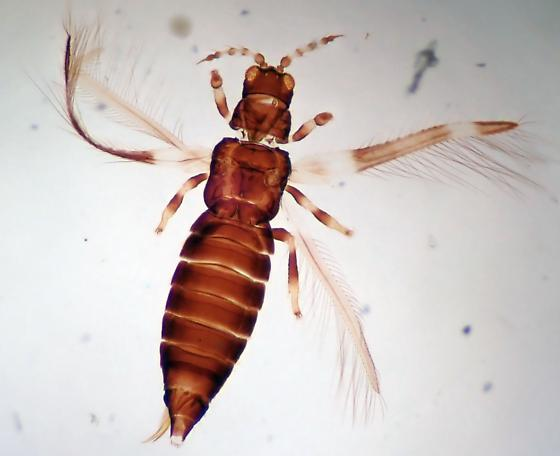Thripidae: (44, 22, 545, 447)
